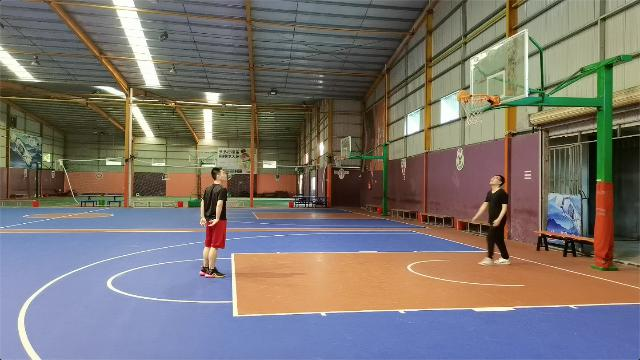ball: (456, 89, 469, 102)
basket: (458, 93, 489, 124)
